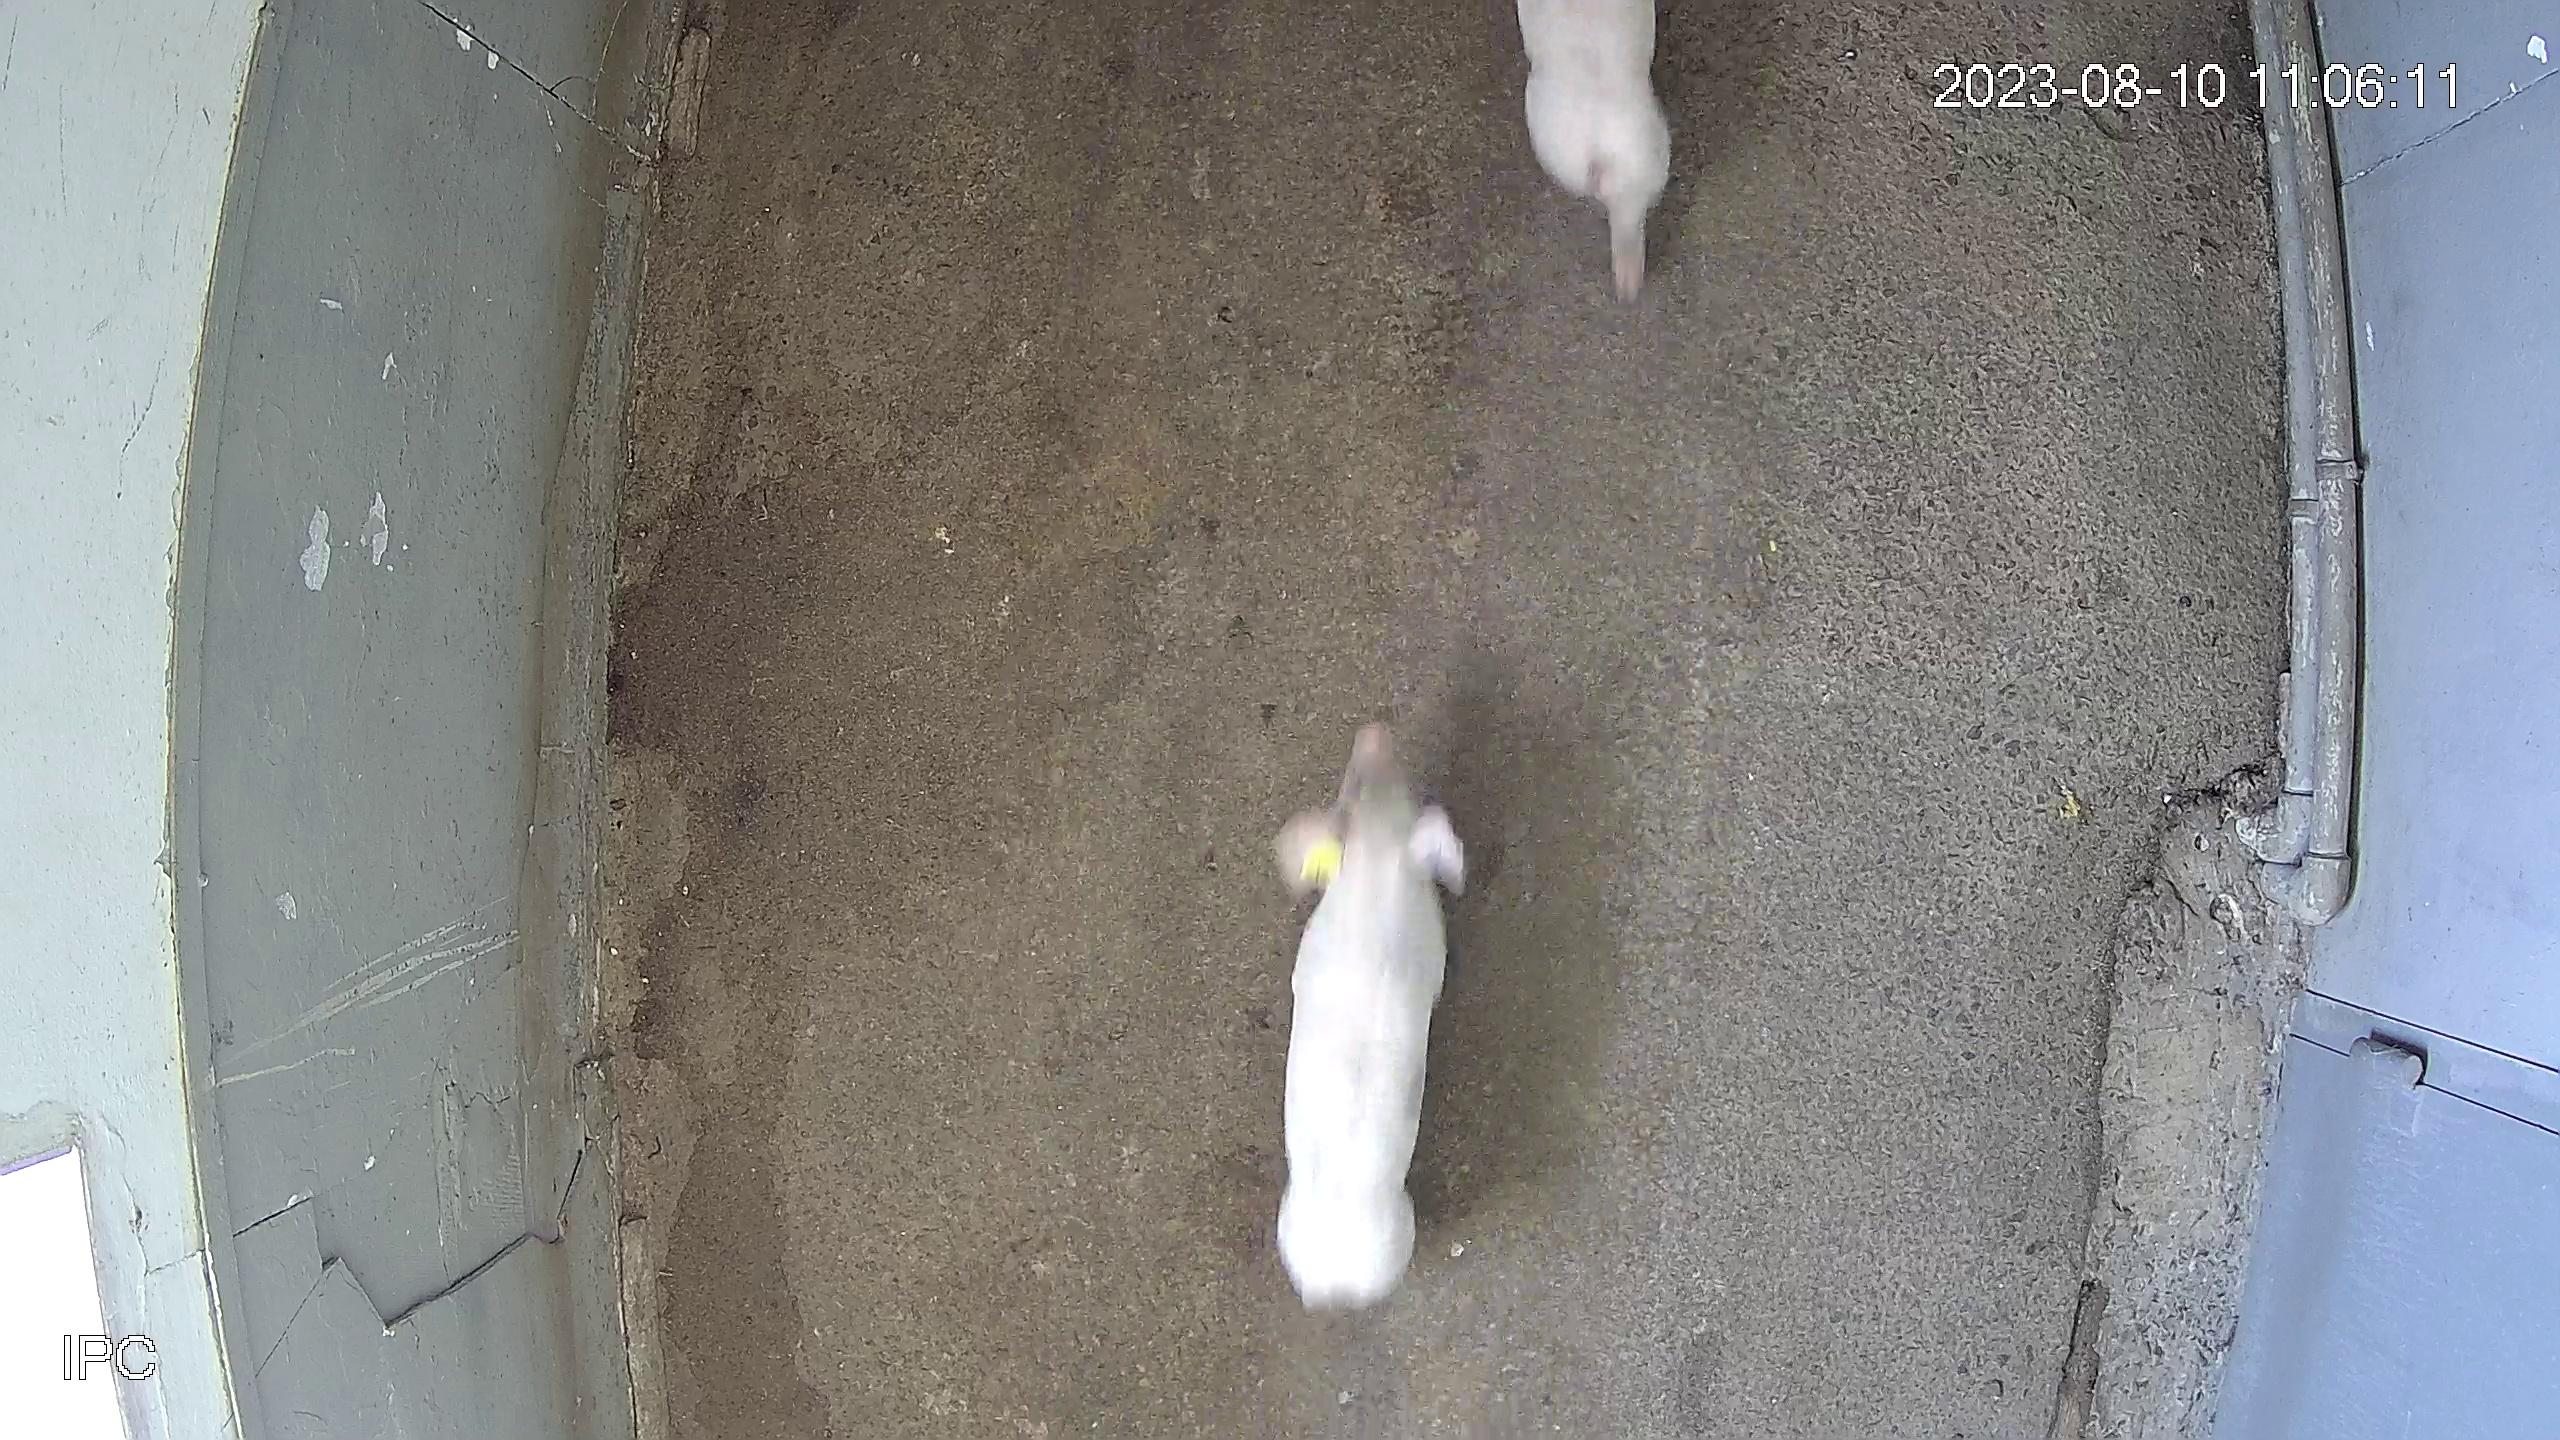Pig: (1275, 723, 1465, 1310), (1519, 0, 1672, 294)
